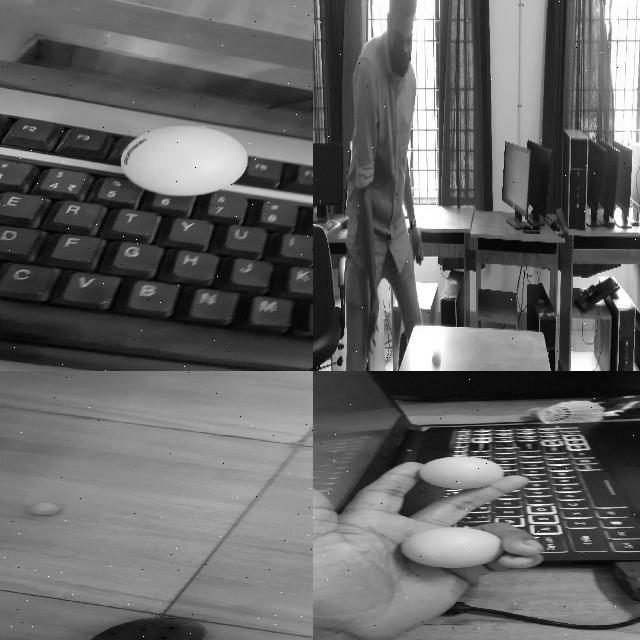ping-pong-ball: (117, 124, 250, 196), (402, 527, 502, 568), (421, 454, 502, 490), (29, 504, 58, 516), (431, 348, 442, 370)
